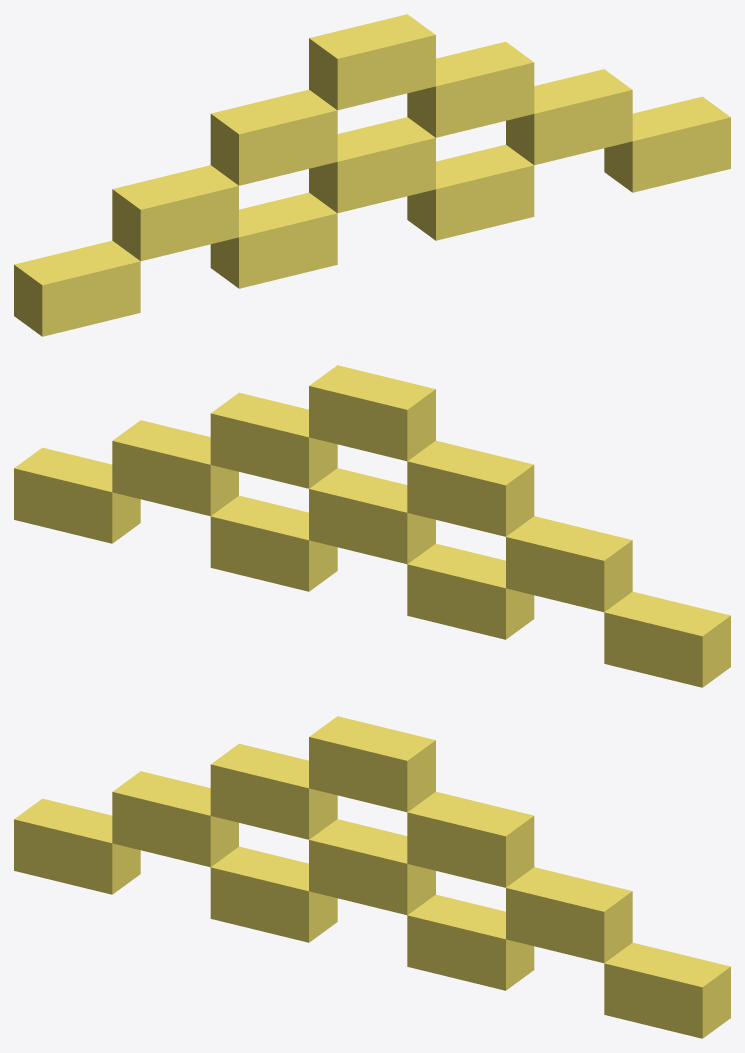
File: Coins-Yellow.vox.obj
3 renders of one model, top to bottom at view 1: azimuth 30°, elevation 25°; view 2: azimuth 150°, elevation 25°; view 3: azimuth 330°, elevation 25°, orthographic.
Size of the model in its own units: 1.4 by 0.4 by 0.1.
Materials: 1 (1 with a texture image).
